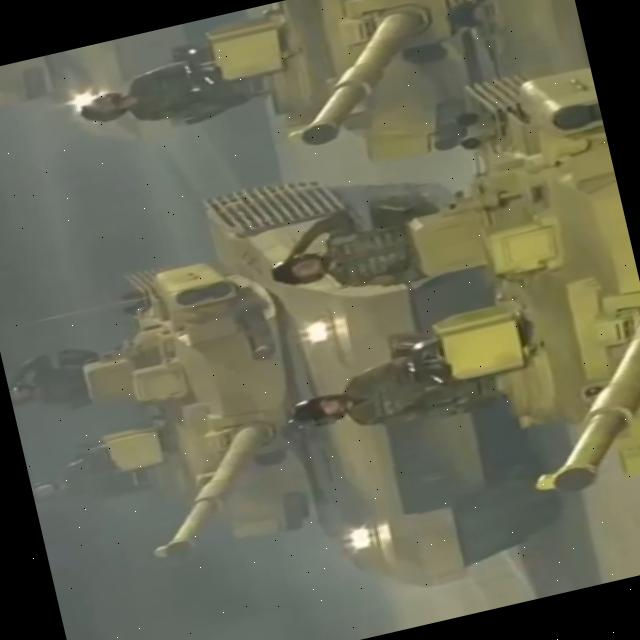north tank: (0, 126, 602, 640), (302, 41, 640, 577), (166, 0, 602, 213)
